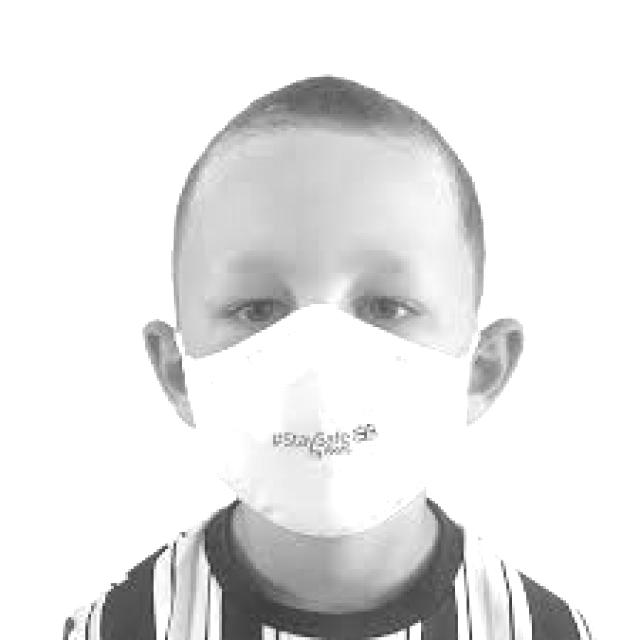fake: (137, 322, 516, 554)
real: (180, 144, 473, 558)
